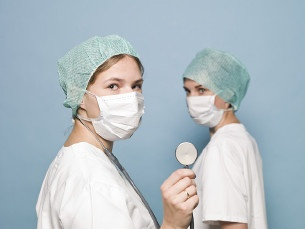Mask: (87, 76, 152, 141)
